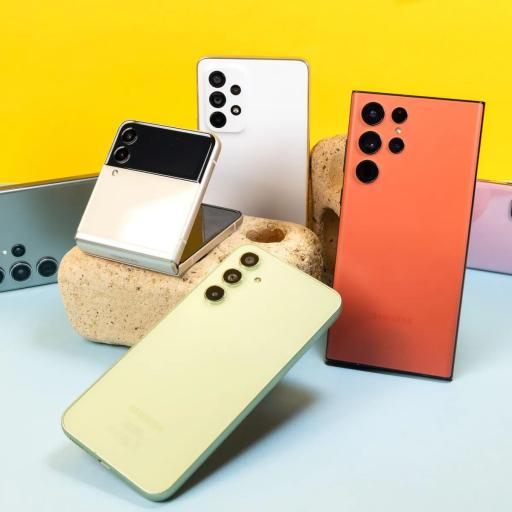phone: (332, 94, 474, 384)
